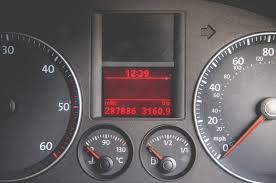Digital_Meter: (100, 99, 178, 118)
